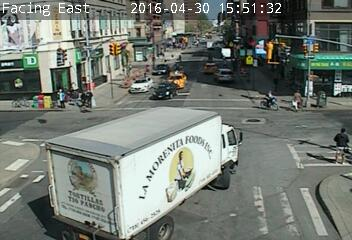neg: (161, 146, 192, 188), (113, 23, 133, 49), (259, 90, 277, 113), (55, 15, 72, 38), (16, 133, 33, 155), (159, 7, 175, 28), (116, 149, 131, 169), (70, 159, 85, 178), (160, 80, 174, 100), (249, 5, 262, 23), (214, 133, 227, 150), (12, 89, 24, 106), (208, 12, 219, 27), (202, 72, 212, 85), (233, 58, 242, 71)
pos: (326, 123, 351, 166), (286, 85, 310, 117), (49, 83, 69, 111), (78, 84, 97, 109), (73, 85, 91, 110), (174, 52, 183, 64)
